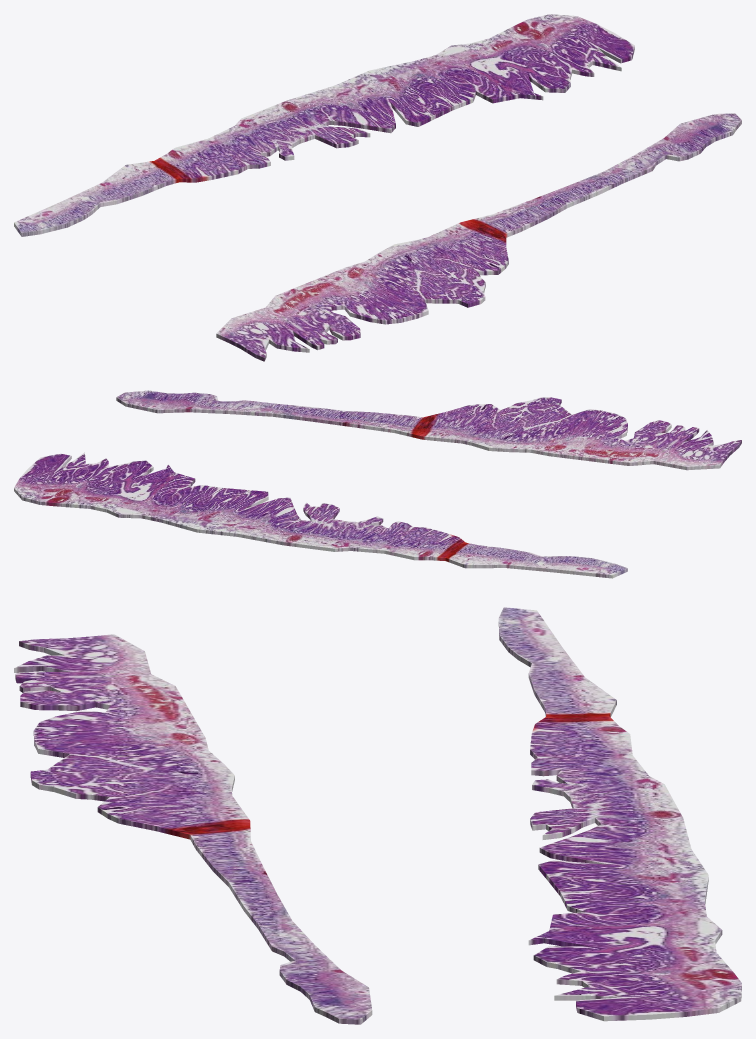
3 renders of one model, top to bottom at view 1: azimuth 30°, elevation 25°; view 2: azimuth 150°, elevation 25°; view 3: azimuth 270°, elevation 25°, orthographic. The views are drawn at different scales.
Parts seen in each view (by area): view 1: 平面; view 2: 平面; view 3: 平面.
Part boxes in pixels (bbox=[...]): 平面: bbox=[14, 14, 741, 361]; 平面: bbox=[14, 390, 741, 578]; 平面: bbox=[14, 607, 741, 1024].
Bounding box in the file's own units: 24.97 × 0.14 × 18.62.
1 material, 1 textured.
